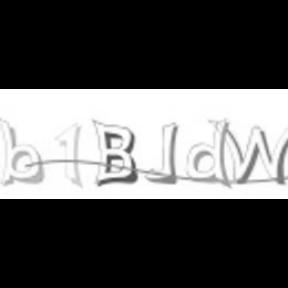1: (52, 121, 88, 190)
B: (91, 117, 140, 187)
J: (144, 120, 180, 188)
W: (212, 118, 288, 184)
b: (0, 117, 46, 185)
d: (185, 117, 233, 189)
